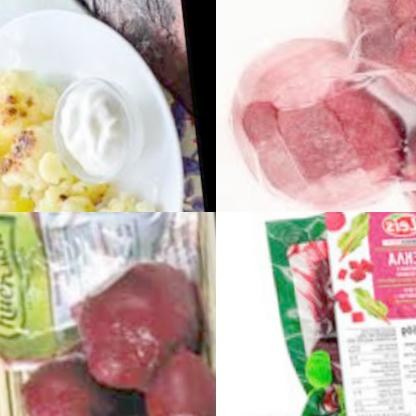beet: (216, 33, 412, 212), (62, 256, 210, 397), (333, 0, 416, 138), (6, 355, 127, 416), (127, 340, 216, 416)
cayliflower: (0, 64, 61, 212), (0, 173, 155, 212)
